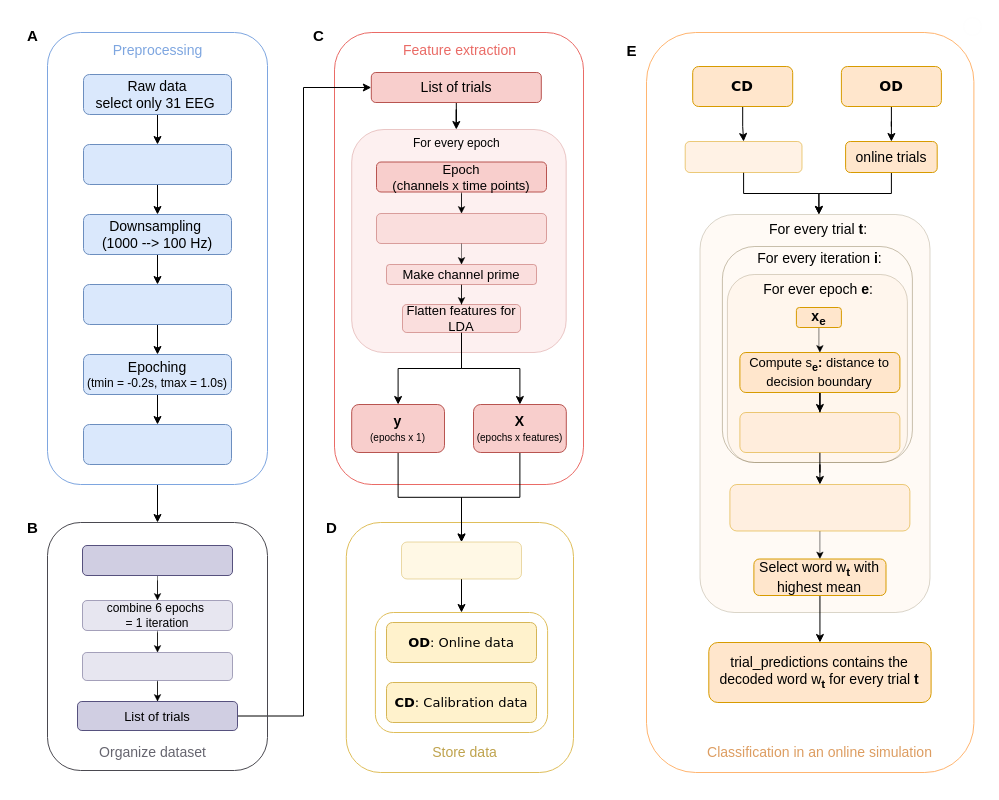
Some shapes in this 999 by 800 pixel diagram are drawn without their labels. Each missing label, with the centre of its shape:
"Average over time intervals (0.1, 0.2, 0.3, 0.4, 0.5 s)" belongs at point 461,228.
"Band-pass filtering (0.5 - 16 Hz)" belongs at point 157,164.
"Baseline correction: None" belongs at point 157,444.
"combine Z iterations = 1 trial" belongs at point 157,666.
"Compute the mean for each word_id in stim_distances" belongs at point 819,507.
"concatenate all epochs" belongs at point 157,560.
"Outlier rejection: None" belongs at point 157,304.
"Store s e in stim_distances[ i , word_id]" belongs at point 819,432.
"Store X and y in either OD or CD" belongs at point 461,560.
"Train classifier" belongs at point 743,156.
